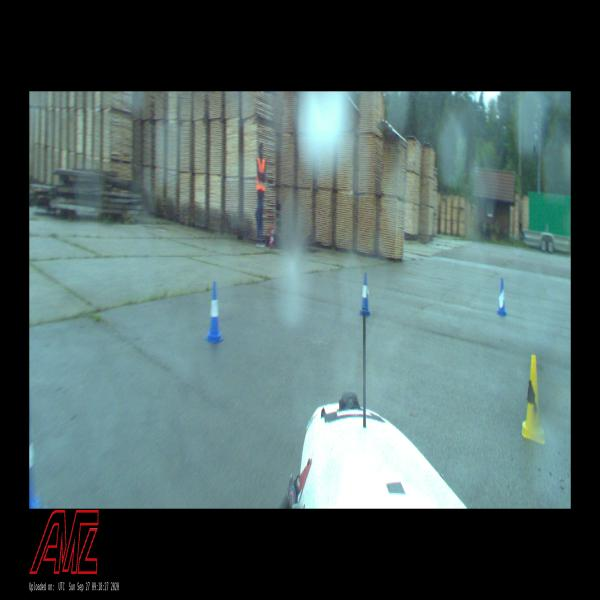blue_cone: (205, 282, 224, 343), (360, 273, 370, 315), (497, 278, 507, 316)
yellow_cone: (522, 356, 545, 444)
